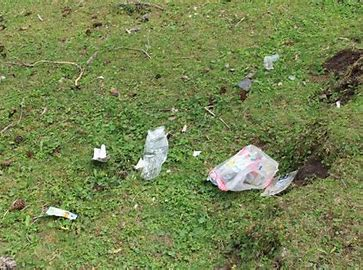garbage: (203, 138, 298, 197), (134, 123, 175, 183), (38, 204, 86, 223), (86, 139, 117, 165), (257, 52, 287, 70)
